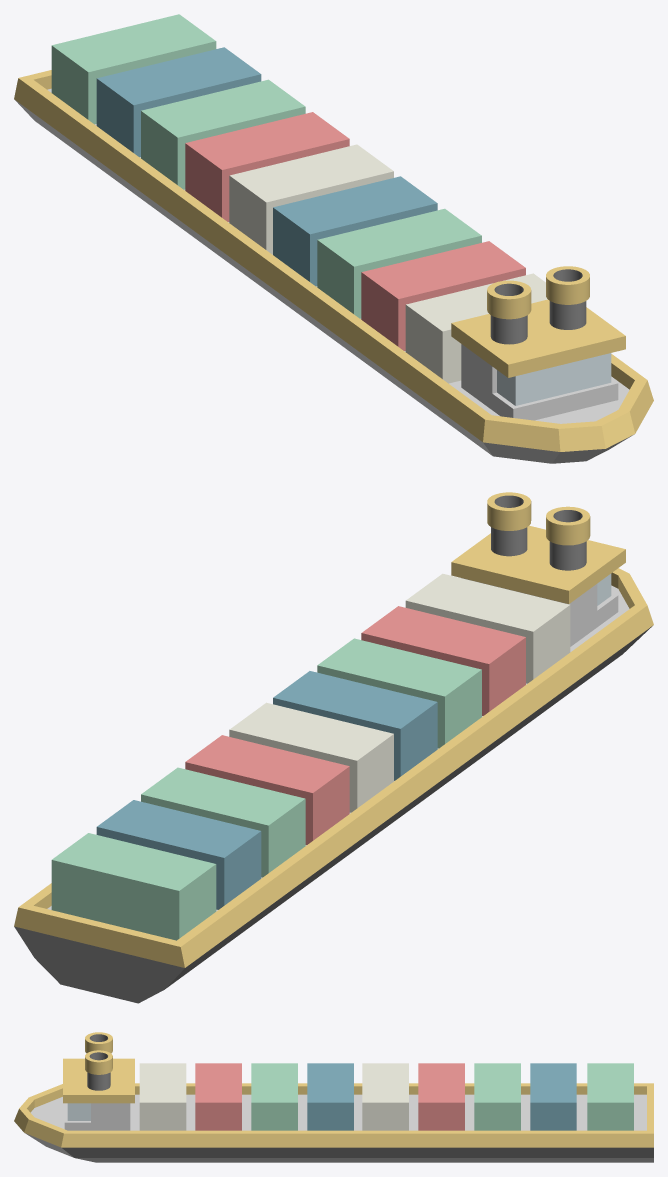
The model's file is boat.fbx.
3 views of the same model, one above another, from view 1: azimuth 30°, elevation 25°; view 2: azimuth 150°, elevation 25°; view 3: azimuth 270°, elevation 25° (orthographic). The views are drawn at different scales.
Parts seen in each view (by area): view 1: boat; view 2: boat; view 3: boat.
Part boxes in pixels (x1,y1,x2,y2): boat: (14,14,653,463); boat: (14,492,653,1003); boat: (14,1032,653,1162).
Bounding box in the file's own units: 369 × 338 × 1895.
